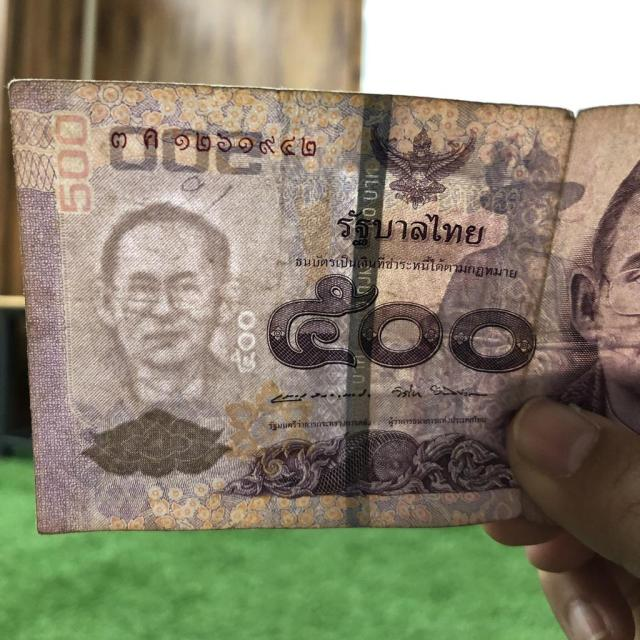THAI500: (9, 80, 639, 533)
